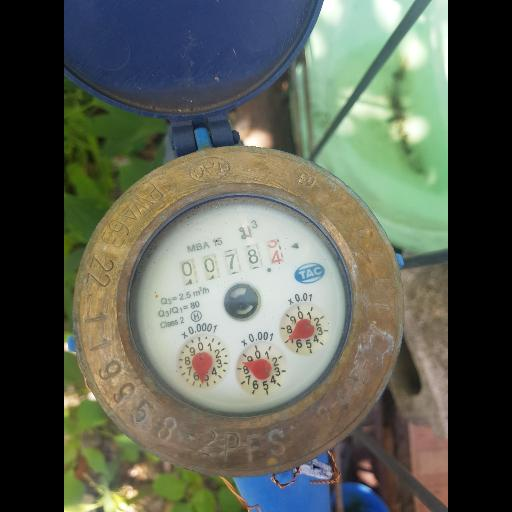0: (179, 259, 199, 287), (201, 253, 221, 281)
4: (264, 238, 284, 264)
7: (222, 247, 242, 275)
8: (243, 243, 263, 269)
border_water_meter_number: (179, 238, 285, 286)
